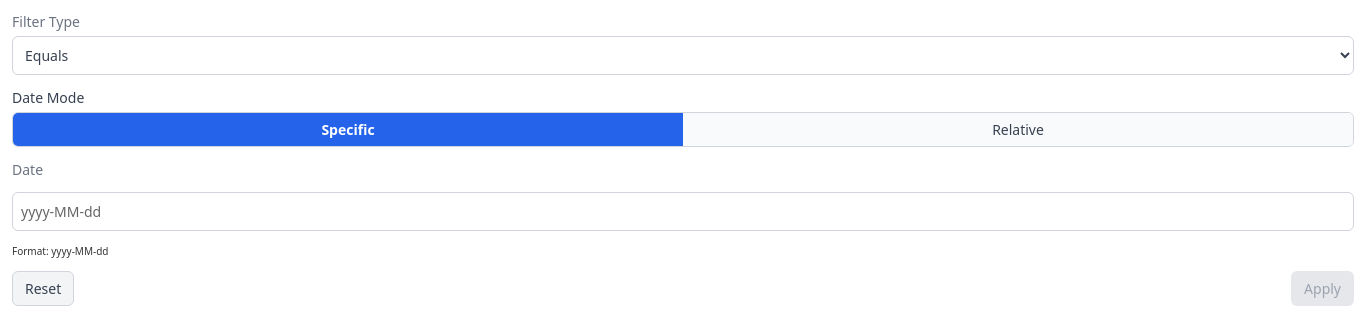
it: DateFilter Integration Tests › Full Component Integration › should switch between absolute and relative modes
This screenshot has width=1366, height=323.
Expected: the element with test id "date-input" is shown, [12,159,1354,259]
// Switch to relative mode
Click the radio button "Relative" at (1018, 130), box [683,113,1353,146]
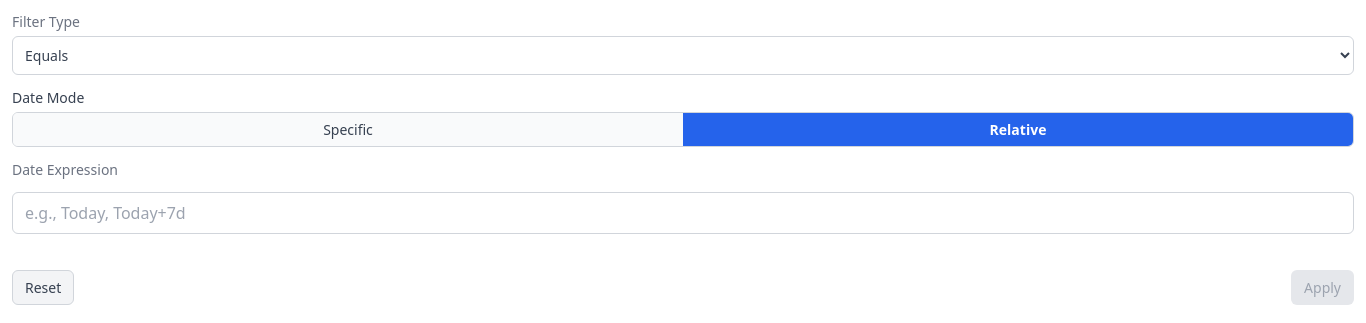
Now the element with test id "relative-input" is shown, box [12,159,1354,258]
